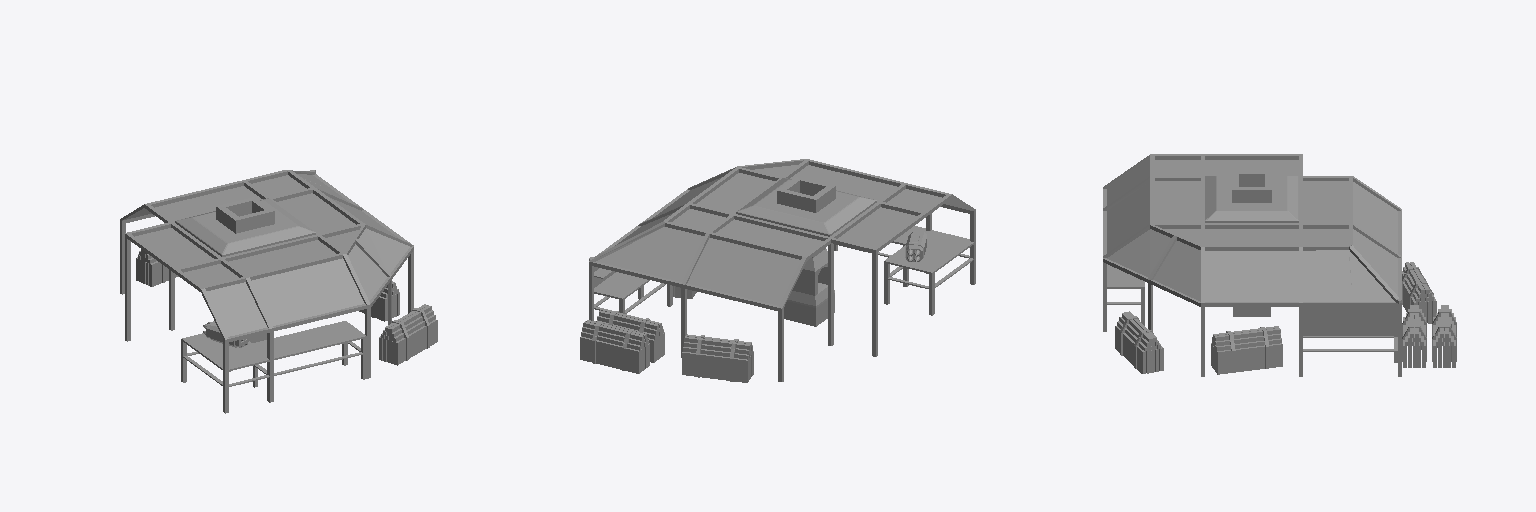
File: taller_maquinas_de_asedio.obj
3 renders of one model, left to right at view 1: azimuth 30°, elevation 25°; view 2: azimuth 150°, elevation 25°; view 3: azimuth 270°, elevation 25°, orthographic.
Visible parts, largest first — view 1: Cube.003_Cube.019; view 2: Cube.003_Cube.019; view 3: Cube.003_Cube.019.
Boxes of the visible parts, x1,y1,x2,y2 form: Cube.003_Cube.019: [120, 170, 437, 413]; Cube.003_Cube.019: [580, 159, 975, 382]; Cube.003_Cube.019: [1103, 154, 1456, 376].
Bounding box in the file's own units: 7.15 × 3.63 × 9.19.